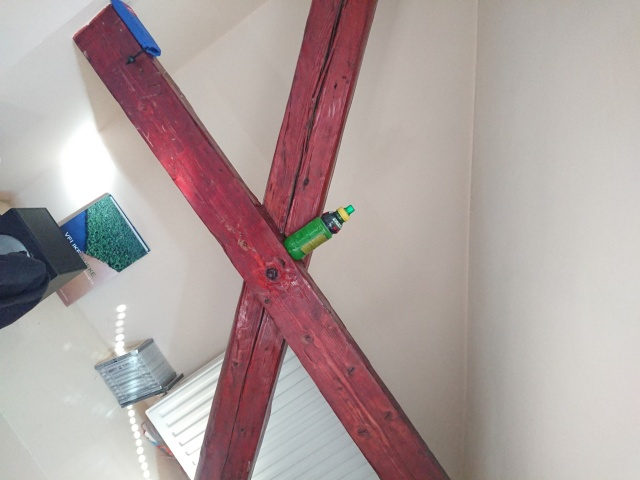Vindi Iso Sport Lemon-Grapefruit 500mL: (282, 203, 357, 263)
